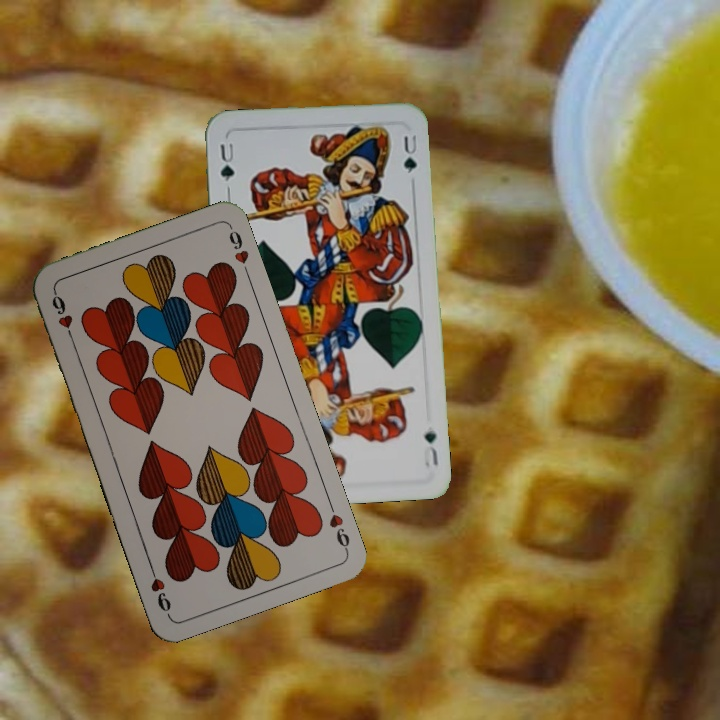GU: (216, 139, 238, 184), (419, 426, 440, 470)
H9: (48, 287, 77, 344), (324, 497, 353, 554)
